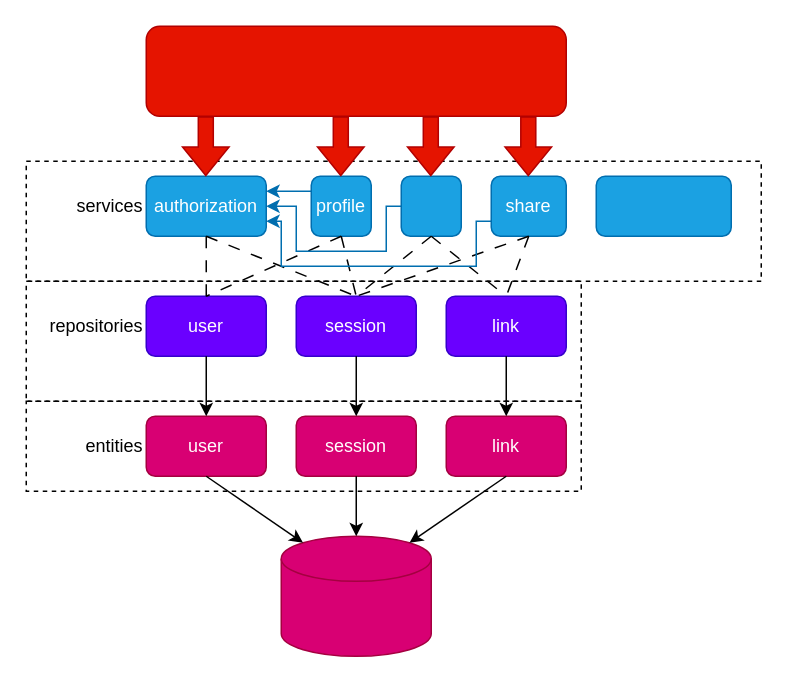
This 788x683 diagram has some shape labels left out. The centre of each missing label's shape, as x and y in pixels:
"encryption" belongs at (x=663, y=205).
"file" belongs at (x=430, y=205).
"HTTP API" belongs at (x=355, y=70).
"SQLite DB" belongs at (x=355, y=595).
